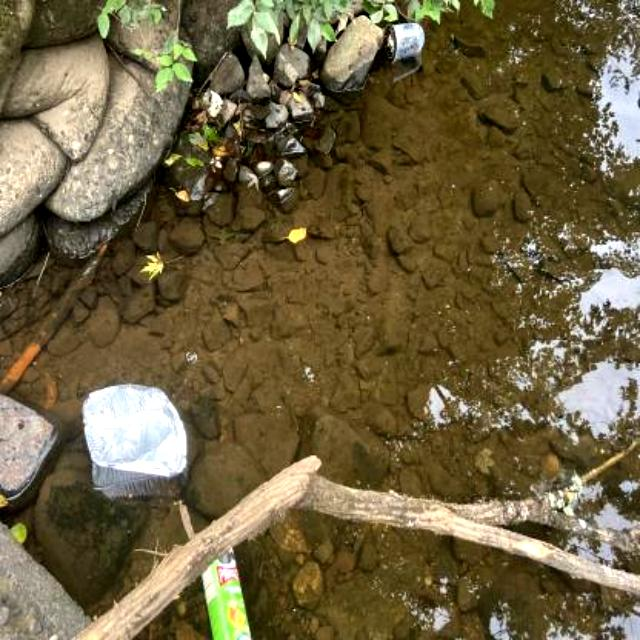Metal: (76, 378, 194, 484), (198, 533, 254, 639)
Plastic: (377, 18, 429, 70)
